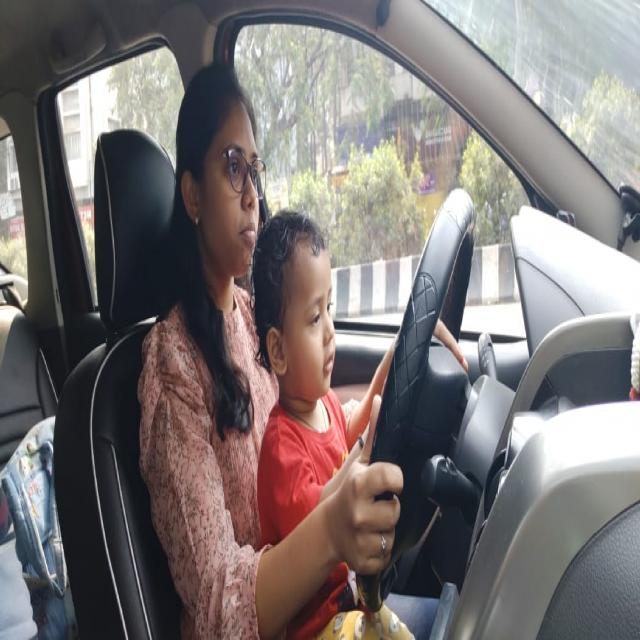child: (254, 208, 342, 429)
person: (173, 58, 264, 312)
